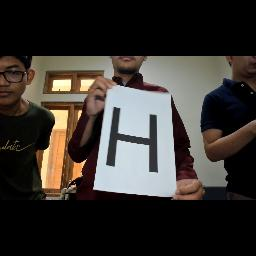h: (104, 104, 166, 178)
